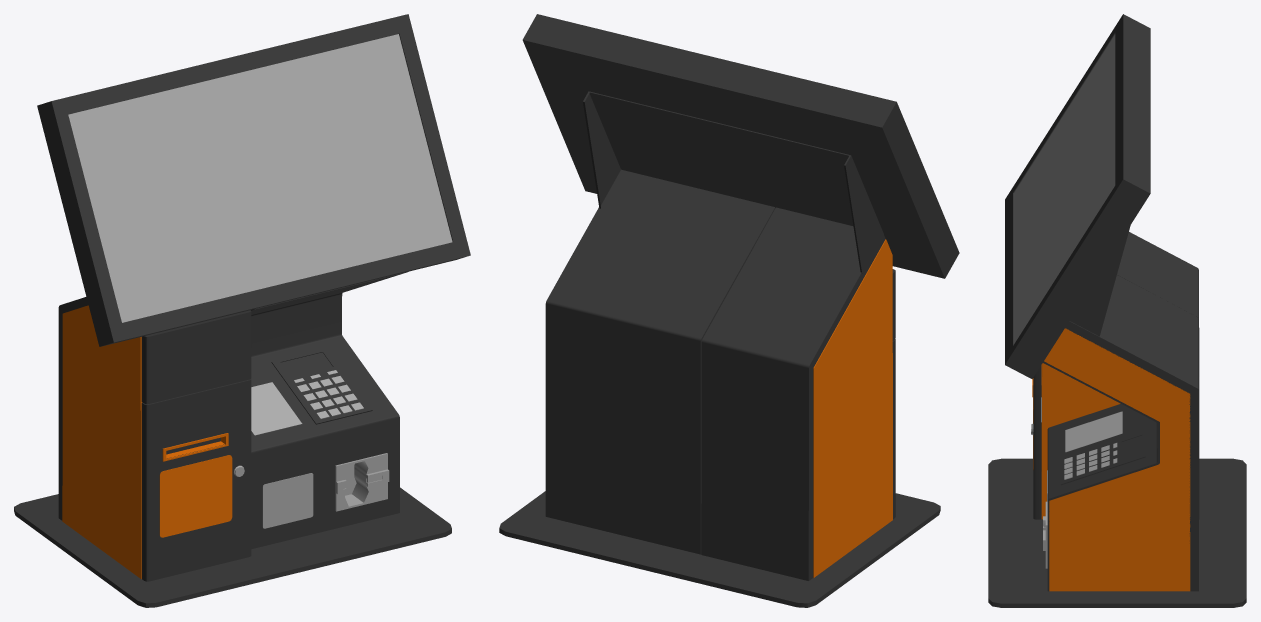
Rendered from UTC-752.fbx.
3 views of the same model, side by side, from view 1: azimuth 30°, elevation 25°; view 2: azimuth 150°, elevation 25°; view 3: azimuth 270°, elevation 25° (orthographic). The views are drawn at different scales.
Parts seen in each view (by area): view 1: A, B; view 2: B, A; view 3: B, A.
Part boxes in pixels (left/top/right/bottom): A: left=37, top=14, right=470, bottom=346; B: left=14, top=271, right=451, bottom=607; B: left=499, top=169, right=940, bottom=607; A: left=522, top=14, right=959, bottom=278; B: left=988, top=232, right=1246, bottom=607; A: left=1005, top=14, right=1150, bottom=378.
Size of the model in its own units: 56.1 by 69.46 by 37.01.
